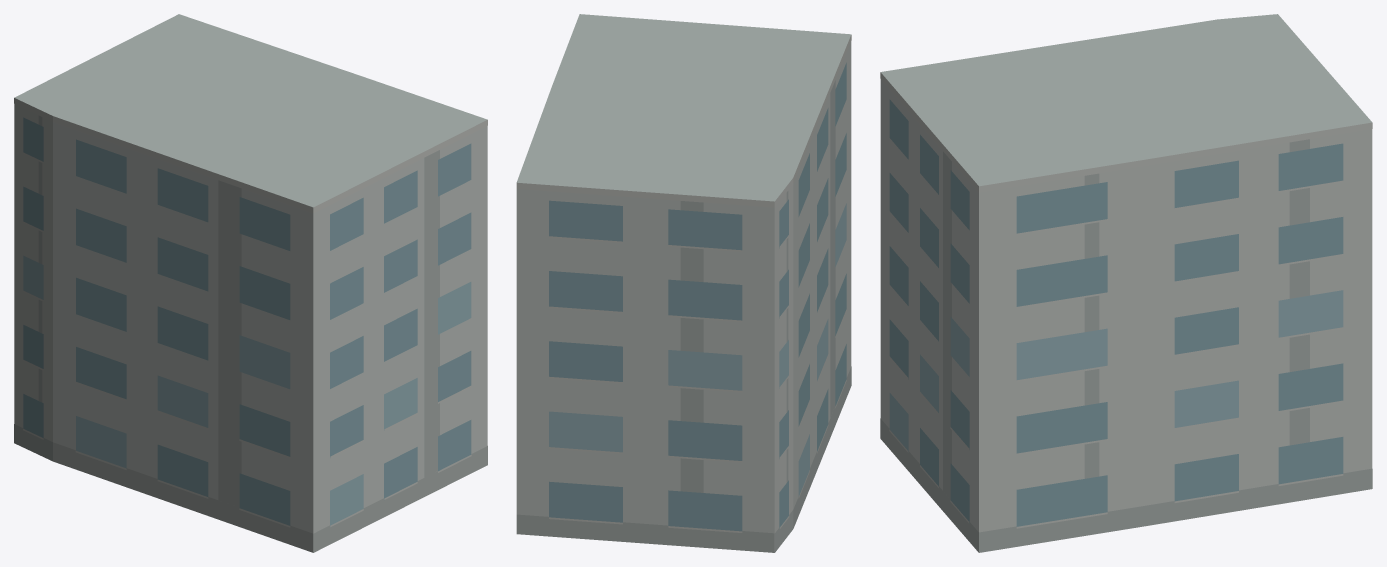
File: survey-upis-33013709.glb
3 renders of one model, left to right at view 1: azimuth 30°, elevation 25°; view 2: azimuth 150°, elevation 25°; view 3: azimuth 270°, elevation 25°, orthographic. The views are drawn at different scales.
Visible parts, largest first — view 1: survey-upis-33013709.tmp; view 2: survey-upis-33013709.tmp; view 3: survey-upis-33013709.tmp.
Boxes of the visible parts, x1,y1,x2,y2 form: survey-upis-33013709.tmp: [14, 14, 487, 552]; survey-upis-33013709.tmp: [516, 14, 851, 552]; survey-upis-33013709.tmp: [880, 14, 1372, 552].
Size of the model in its own units: 13.92 by 13.8 by 16.8.
